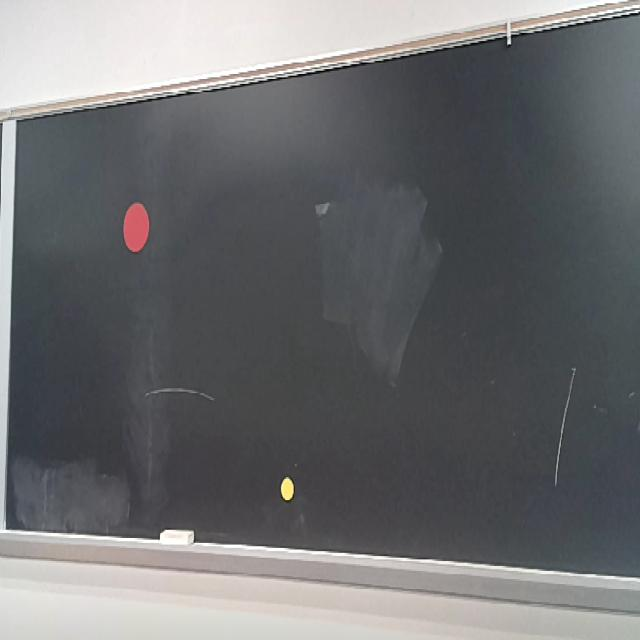Red: (122, 202, 149, 250)
Yellow: (281, 476, 294, 502)
